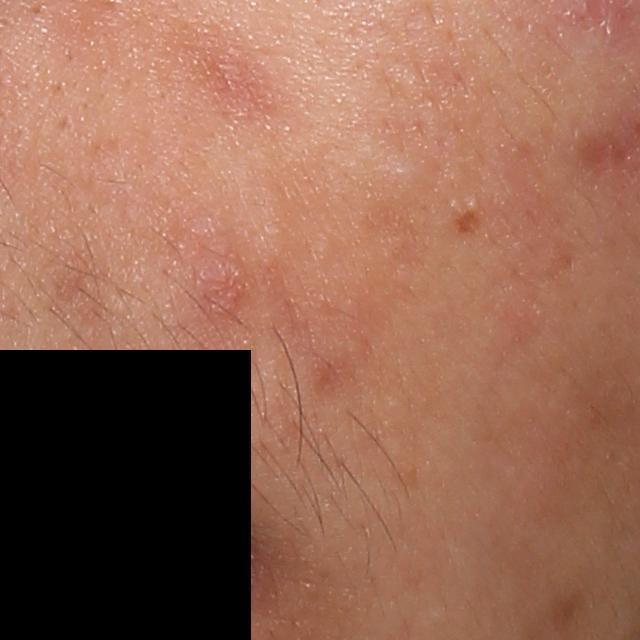comedo: (468, 197, 480, 211)
